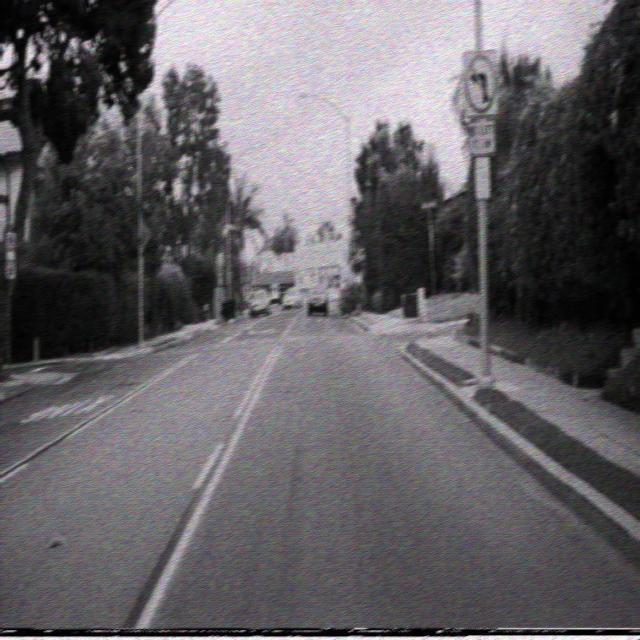noLeftTurn: (462, 49, 498, 117)
